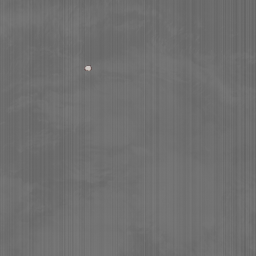Target: (83, 66, 93, 71)
